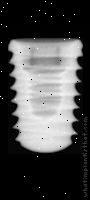NucleOSS: (8, 38, 83, 154)
